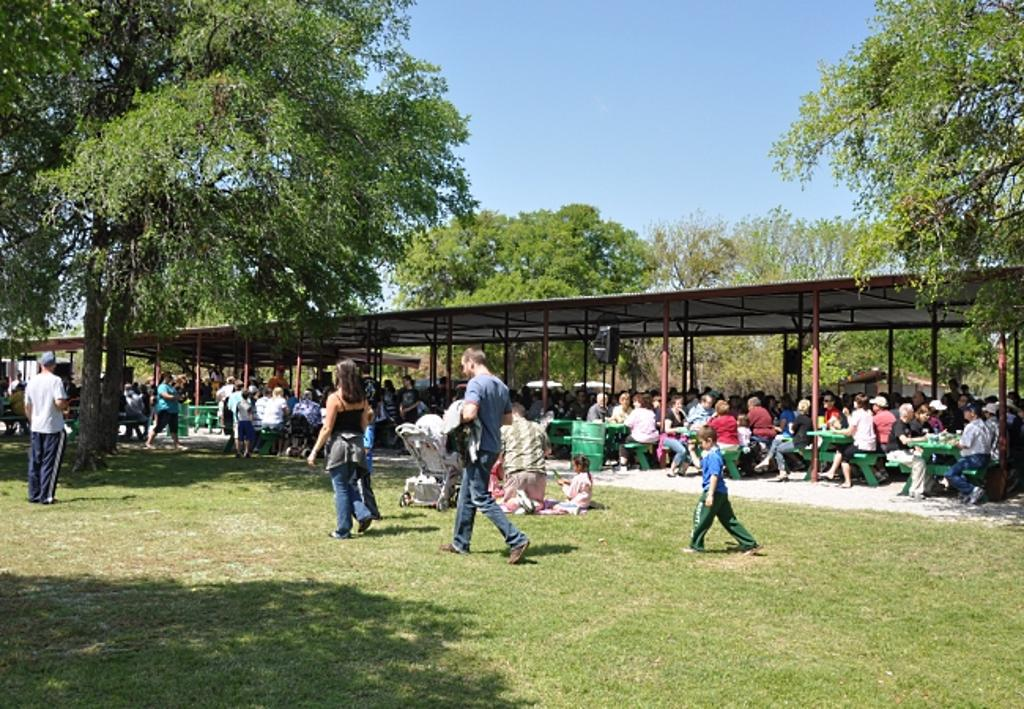face: (462, 358, 471, 377), (699, 437, 709, 450), (621, 395, 630, 408), (921, 412, 931, 422), (958, 397, 967, 408), (824, 396, 832, 408), (676, 400, 683, 411), (705, 400, 712, 410), (906, 409, 913, 419), (964, 410, 971, 420), (573, 462, 579, 473), (600, 398, 607, 407), (634, 401, 640, 410), (874, 404, 880, 412), (167, 375, 172, 382)
